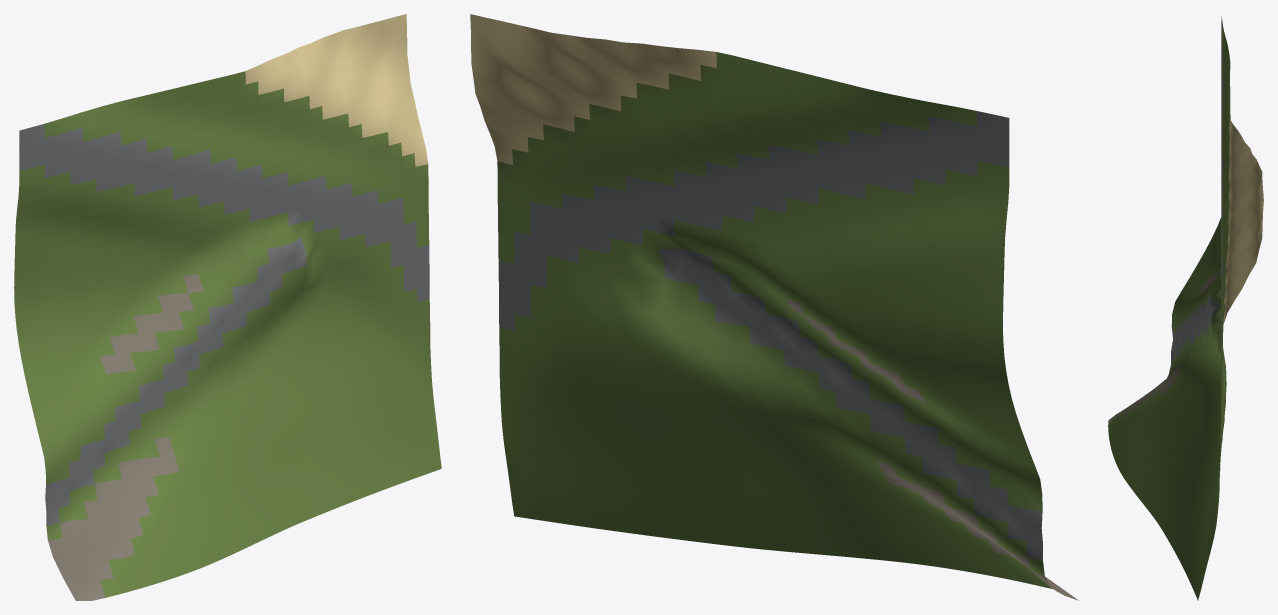
The model's file is island_terrain_25_09.obj.
3 views of the same model, side by side, from view 1: azimuth 30°, elevation 25°; view 2: azimuth 150°, elevation 25°; view 3: azimuth 270°, elevation 25° (orthographic). The views are drawn at different scales.
Parts seen in each view (by area): view 1: island_terrain_25_09; view 2: island_terrain_25_09; view 3: island_terrain_25_09.
Part boxes in pixels (x1,y1,x2,y2): island_terrain_25_09: (14, 14, 441, 600); island_terrain_25_09: (470, 14, 1078, 600); island_terrain_25_09: (1108, 16, 1263, 600).
Bounding box in the file's own units: 256 × 256 × 90.33.
